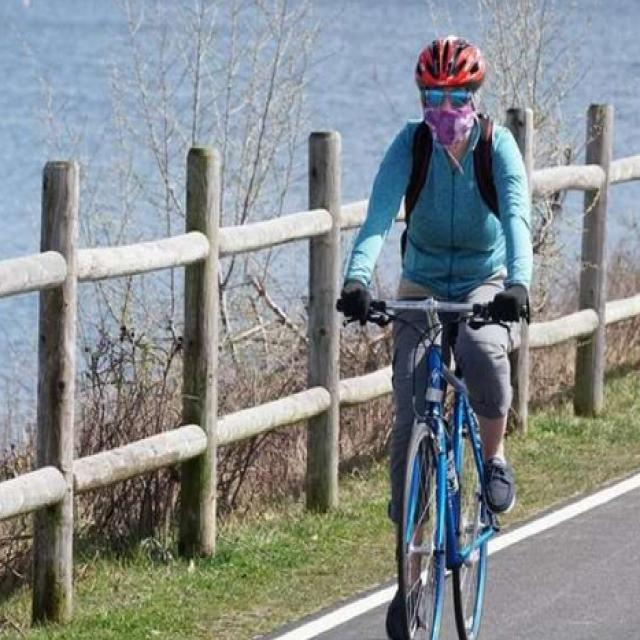hat: (416, 37, 482, 87)
